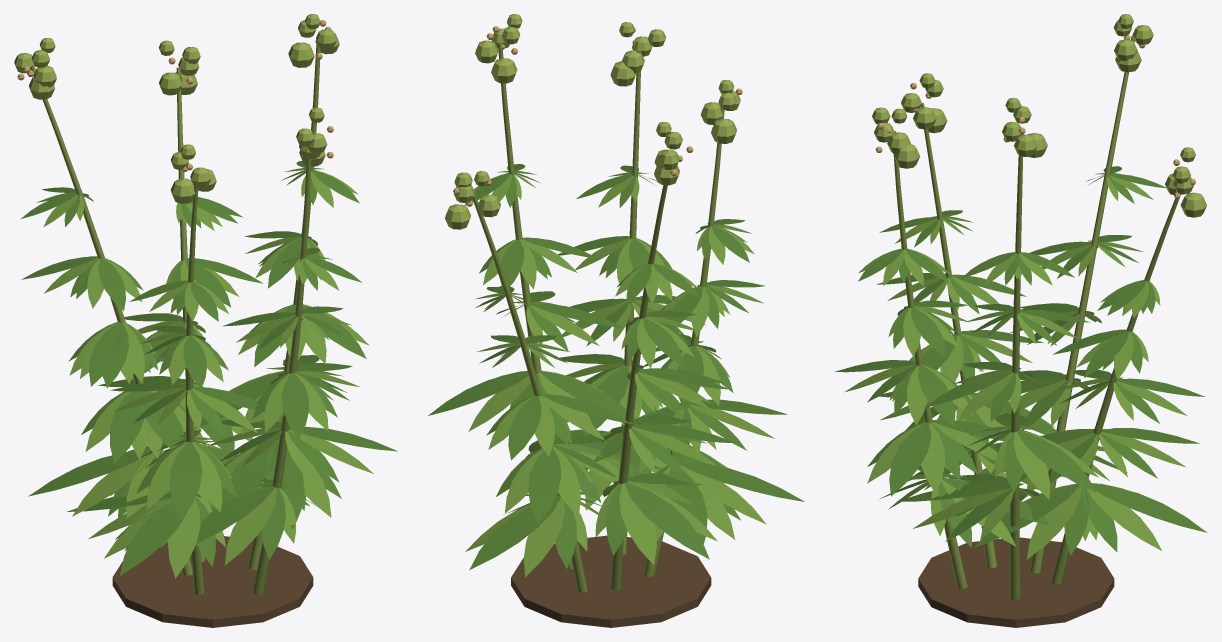
Rendered from hanf.glb.
The picture shows the model from 3 angles, left to right: view 1: azimuth 30°, elevation 25°; view 2: azimuth 150°, elevation 25°; view 3: azimuth 270°, elevation 25°; orthographic projection. The views are drawn at different scales.
Visible parts, largest first — view 1: hanf; view 2: hanf; view 3: hanf.
Part boxes in pixels (x1,y1,x2,y2): hanf: (14, 14, 397, 627); hanf: (428, 14, 804, 627); hanf: (835, 14, 1207, 627).
Bounding box in the file's own units: 0.7387 × 1.33 × 0.839.
